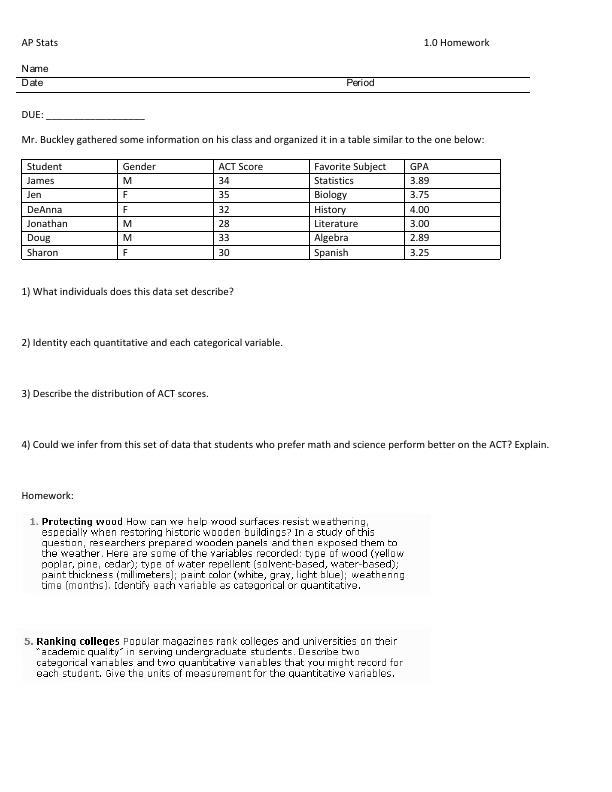input: (54, 85, 244, 100), (53, 68, 240, 80), (43, 107, 147, 124), (380, 83, 478, 97)
table: (17, 153, 508, 267)
text: (25, 512, 414, 598), (21, 631, 406, 687), (17, 435, 554, 459), (19, 133, 490, 148), (13, 333, 287, 355), (18, 280, 238, 303), (14, 384, 216, 403), (18, 485, 81, 503), (344, 76, 378, 90), (21, 105, 43, 124), (18, 62, 49, 74), (20, 78, 47, 90)
